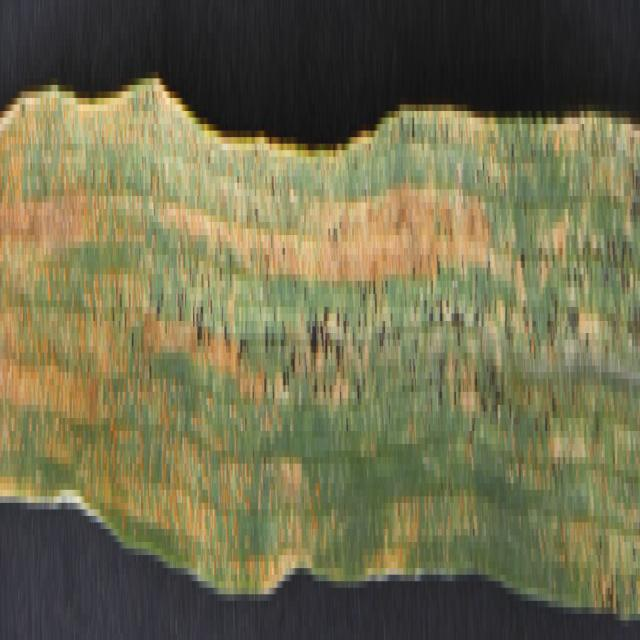leaf rust: (1, 85, 510, 588)
